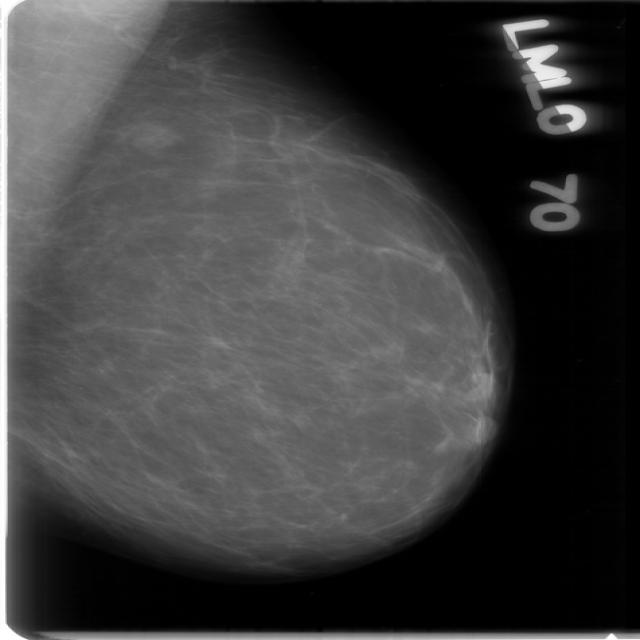tumour: (113, 120, 176, 152)
